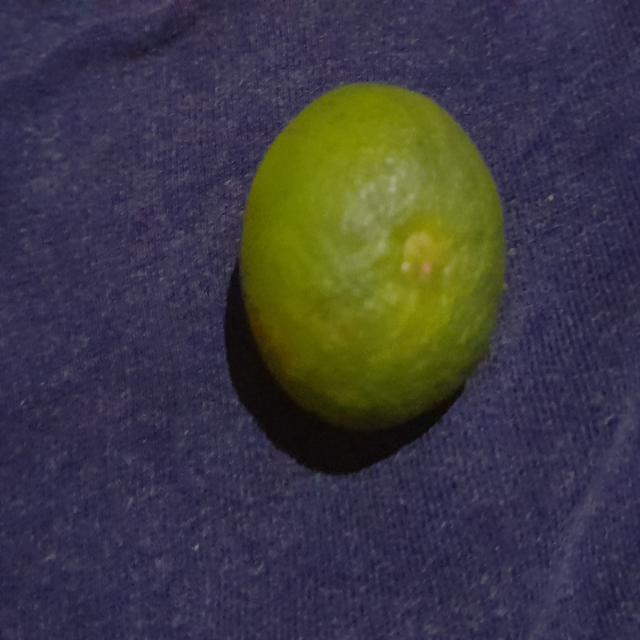heathy: (236, 75, 510, 438)
